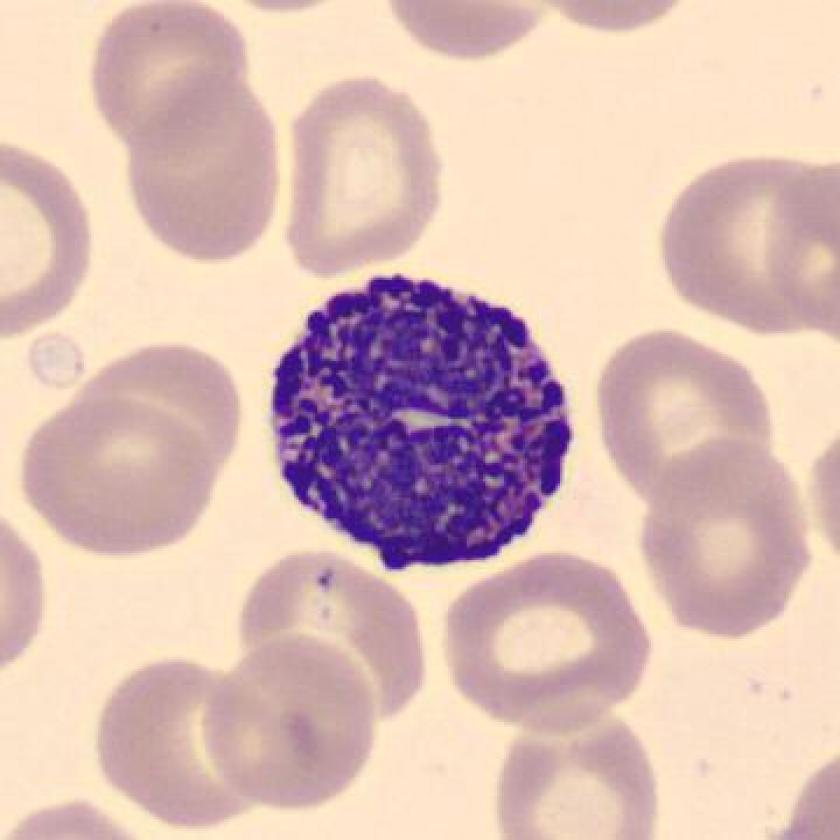basophil: (256, 272, 592, 577)
